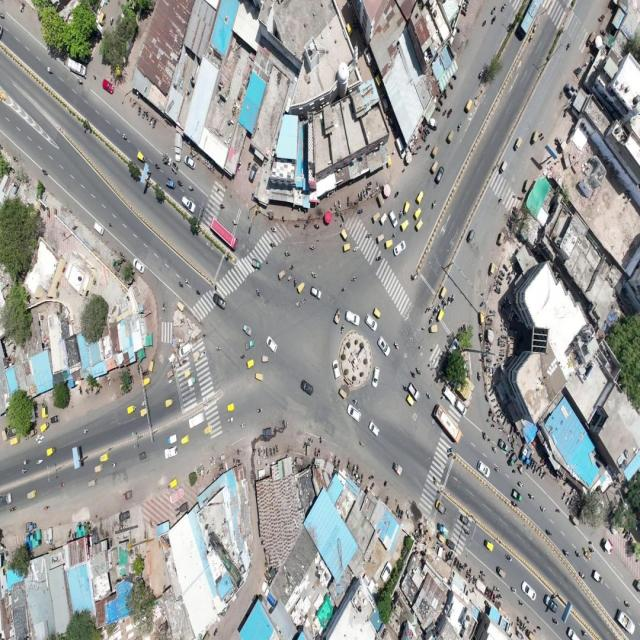3W: (391, 461, 404, 476), (435, 498, 446, 515), (332, 305, 341, 323), (484, 539, 494, 555), (496, 562, 505, 578), (459, 513, 470, 526), (373, 304, 383, 318), (137, 151, 147, 165), (488, 260, 497, 275), (404, 397, 414, 410), (415, 218, 425, 231), (434, 344, 442, 360), (40, 414, 51, 425), (169, 477, 179, 489), (22, 431, 34, 441), (342, 242, 354, 252), (99, 453, 109, 465), (413, 206, 423, 218), (532, 129, 539, 145), (468, 229, 475, 245), (296, 282, 307, 292), (176, 301, 187, 311), (87, 479, 98, 489), (465, 96, 472, 111), (514, 139, 522, 152), (437, 310, 445, 323), (416, 189, 424, 202), (441, 282, 447, 299), (246, 360, 256, 370), (429, 326, 440, 335), (42, 397, 49, 411), (447, 127, 454, 141), (150, 352, 157, 365), (11, 428, 21, 437), (339, 230, 348, 240), (180, 435, 190, 444), (400, 221, 409, 231), (404, 199, 410, 214), (446, 538, 454, 549), (382, 212, 388, 226), (165, 398, 174, 407), (255, 373, 264, 382), (372, 212, 381, 221), (384, 239, 393, 248), (193, 352, 203, 360), (167, 369, 175, 379), (433, 144, 439, 157), (432, 160, 438, 173), (501, 160, 508, 171), (437, 533, 444, 544), (228, 402, 235, 412), (142, 379, 152, 386), (377, 232, 384, 242), (140, 409, 149, 416), (94, 465, 103, 472), (185, 368, 191, 377)
Bus: (435, 401, 463, 443), (210, 217, 239, 252)
Cars: (615, 609, 636, 634), (522, 576, 537, 601), (543, 591, 559, 611), (369, 367, 382, 389), (345, 307, 360, 326), (347, 404, 362, 423), (477, 459, 491, 478), (456, 397, 469, 417), (212, 295, 228, 311), (178, 340, 194, 356), (132, 256, 146, 274), (182, 197, 197, 213), (377, 336, 389, 356), (436, 162, 446, 185), (103, 80, 115, 99), (366, 313, 378, 332), (409, 381, 421, 400), (90, 222, 106, 236), (301, 379, 314, 396), (445, 384, 455, 405), (368, 422, 381, 438), (388, 207, 398, 227), (592, 567, 604, 583), (189, 414, 204, 426), (331, 360, 340, 378), (267, 336, 277, 352), (165, 446, 178, 458), (394, 242, 406, 255), (311, 286, 321, 301), (185, 155, 195, 169), (51, 406, 62, 417), (138, 451, 148, 462), (276, 268, 285, 280)
LCV: (434, 520, 449, 538), (174, 134, 182, 162), (243, 321, 253, 337), (122, 488, 134, 500), (252, 257, 261, 272), (25, 513, 38, 523), (166, 433, 178, 443), (513, 490, 523, 502), (187, 378, 196, 391), (245, 340, 255, 350), (261, 356, 270, 363)
M2W: (494, 462, 503, 476), (550, 616, 559, 630), (544, 524, 553, 538), (574, 547, 582, 562), (504, 552, 514, 564), (357, 436, 366, 449), (526, 490, 535, 503), (269, 223, 279, 234), (353, 241, 361, 254), (408, 368, 417, 379), (416, 366, 424, 378), (490, 445, 498, 457), (462, 528, 470, 540), (219, 200, 227, 212), (46, 63, 53, 76), (623, 598, 631, 609), (517, 478, 524, 490), (578, 566, 585, 578), (311, 270, 318, 282), (499, 2, 508, 11), (178, 178, 186, 188), (567, 38, 573, 51), (112, 459, 119, 470), (256, 405, 263, 416), (0, 10, 8, 19), (287, 263, 296, 271), (6, 457, 13, 467), (256, 288, 263, 298), (401, 383, 408, 393), (339, 392, 346, 402), (540, 506, 547, 516), (562, 548, 569, 558), (357, 207, 364, 217), (490, 4, 497, 14), (448, 107, 454, 118), (287, 272, 293, 283), (457, 122, 462, 135), (491, 16, 499, 24), (364, 230, 371, 239), (393, 340, 400, 349), (240, 350, 247, 359), (375, 254, 382, 263), (227, 417, 233, 427), (232, 219, 238, 229), (188, 181, 194, 191), (481, 429, 486, 441), (239, 421, 245, 431), (216, 344, 222, 354), (284, 249, 290, 259), (271, 239, 276, 251), (341, 283, 346, 295), (297, 300, 303, 310), (428, 317, 435, 325), (308, 244, 316, 251), (154, 162, 160, 171), (20, 4, 26, 13), (350, 275, 356, 284), (121, 133, 126, 143), (432, 198, 437, 208), (452, 293, 457, 303), (426, 391, 431, 401), (498, 195, 503, 205), (447, 293, 452, 303), (58, 483, 65, 490), (202, 429, 209, 436), (432, 307, 439, 314), (352, 397, 359, 404), (8, 442, 15, 448), (481, 21, 488, 27), (294, 275, 297, 288), (395, 190, 400, 197), (302, 295, 307, 302), (436, 304, 441, 309), (444, 299, 447, 303)
MAV: (166, 177, 176, 190)
